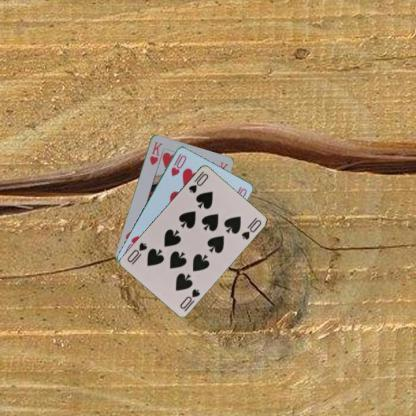10h: (168, 150, 188, 178)
10s: (177, 286, 202, 310), (186, 168, 209, 194)
Kh: (146, 138, 164, 166)
